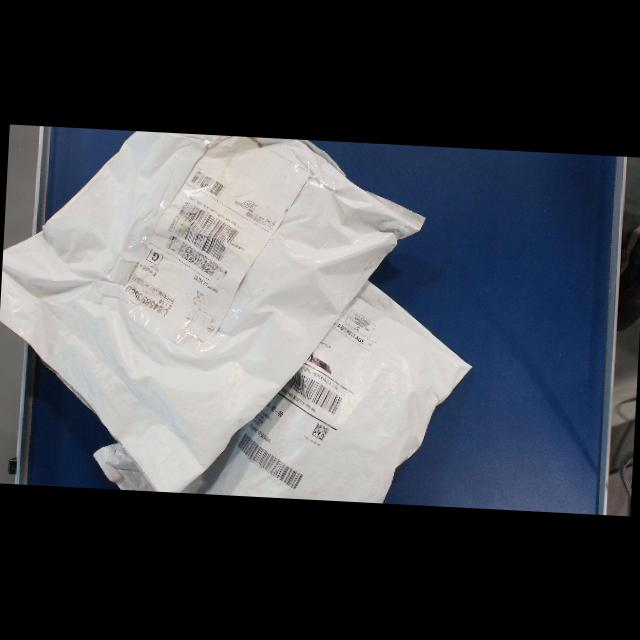mailer: (0, 123, 429, 504), (98, 269, 479, 508)
